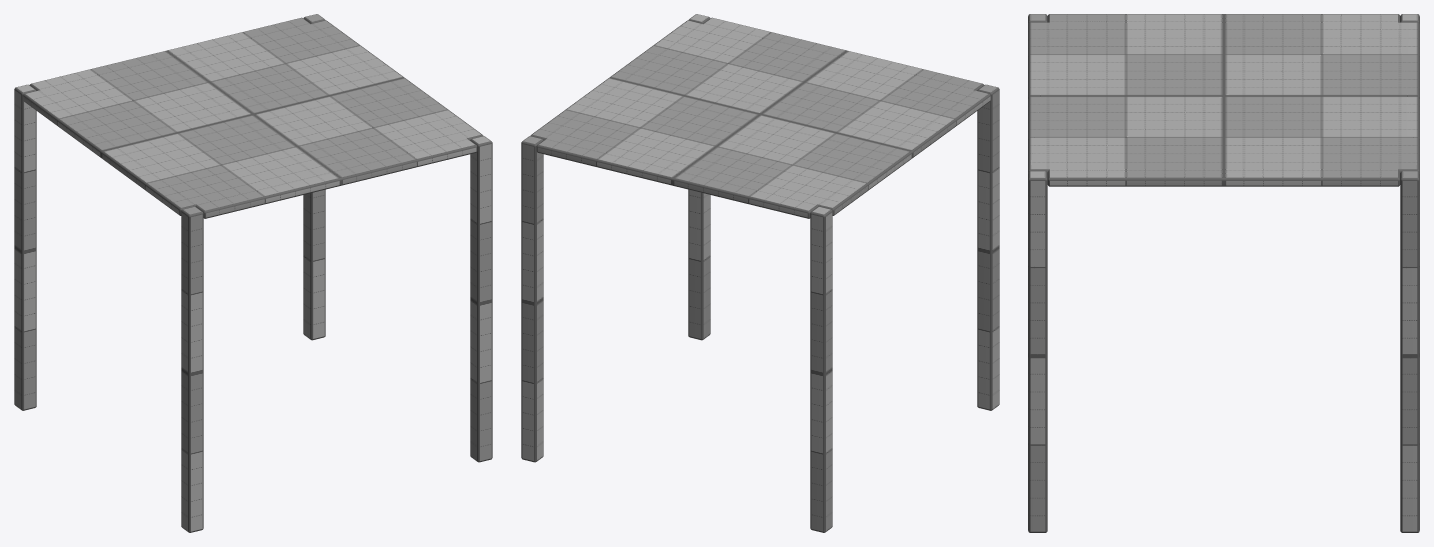
File: Table2x2x2.fbx
The picture shows the model from 3 angles, left to right: view 1: azimuth 30°, elevation 25°; view 2: azimuth 150°, elevation 25°; view 3: azimuth 270°, elevation 25°; orthographic projection. The views are drawn at different scales.
Parts seen in each view (by area): view 1: Table2x2x2; view 2: Table2x2x2; view 3: Table2x2x2.
Part boxes in pixels (x1=…): Table2x2x2: x1=14, y1=14, x2=492, y2=532; Table2x2x2: x1=521, y1=14, x2=999, y2=532; Table2x2x2: x1=1028, y1=14, x2=1419, y2=532.
Size of the model in its own units: 200 by 200 by 200.
